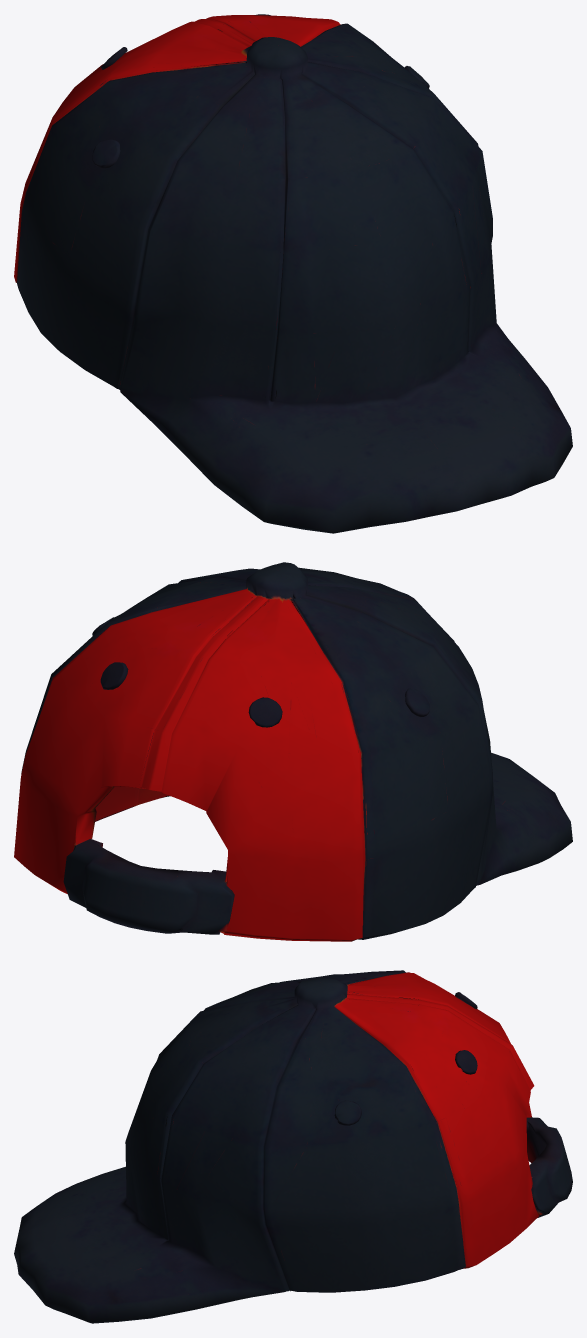
The model's file is backward_cap.glb.
3 views of the same model, one above another, from view 1: azimuth 30°, elevation 25°; view 2: azimuth 150°, elevation 25°; view 3: azimuth 270°, elevation 25° (orthographic). The views are drawn at different scales.
Parts seen in each view (by area): view 1: geometry_0; view 2: geometry_0; view 3: geometry_0.
Boxes of the visible parts, box(x1,y1,x2,y2) form: geometry_0: box(14, 14, 572, 533); geometry_0: box(14, 562, 572, 941); geometry_0: box(14, 970, 572, 1323).
Size of the model in its own units: 0.6274 by 0.5356 by 0.9526.
1 material, 1 textured.
